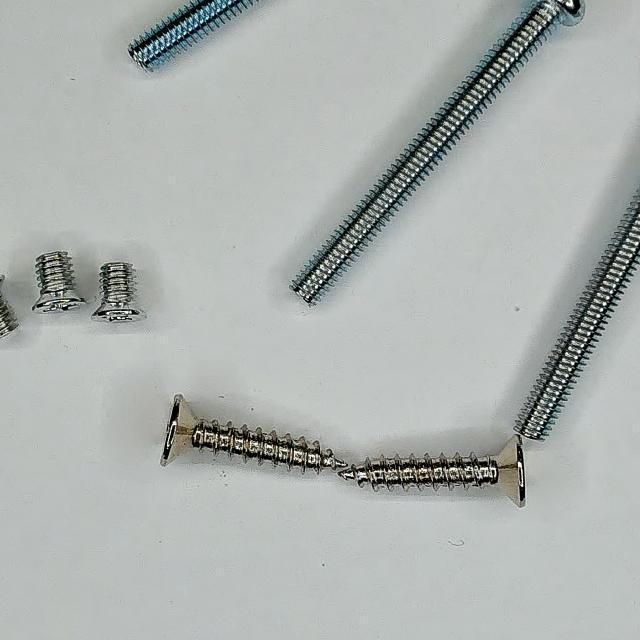Screw: (291, 0, 584, 304), (518, 191, 640, 440), (161, 395, 347, 472), (339, 436, 527, 508), (128, 0, 257, 70), (32, 251, 84, 312), (92, 262, 140, 322), (0, 275, 18, 338)
